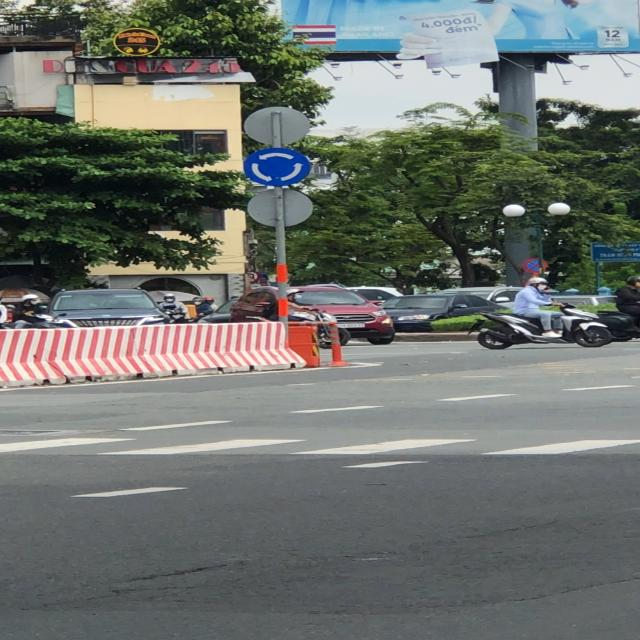Bien bao noi giao nhau chay theo vong xuyen: (240, 146, 314, 185)
